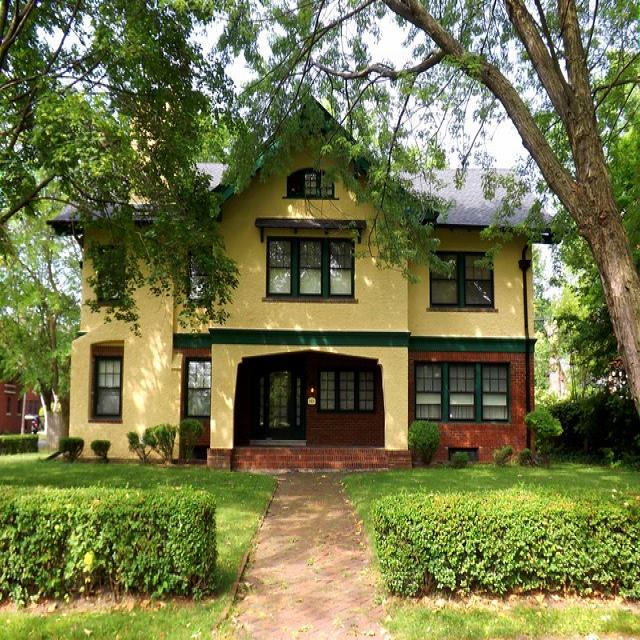Normal_building: (45, 89, 558, 470)
